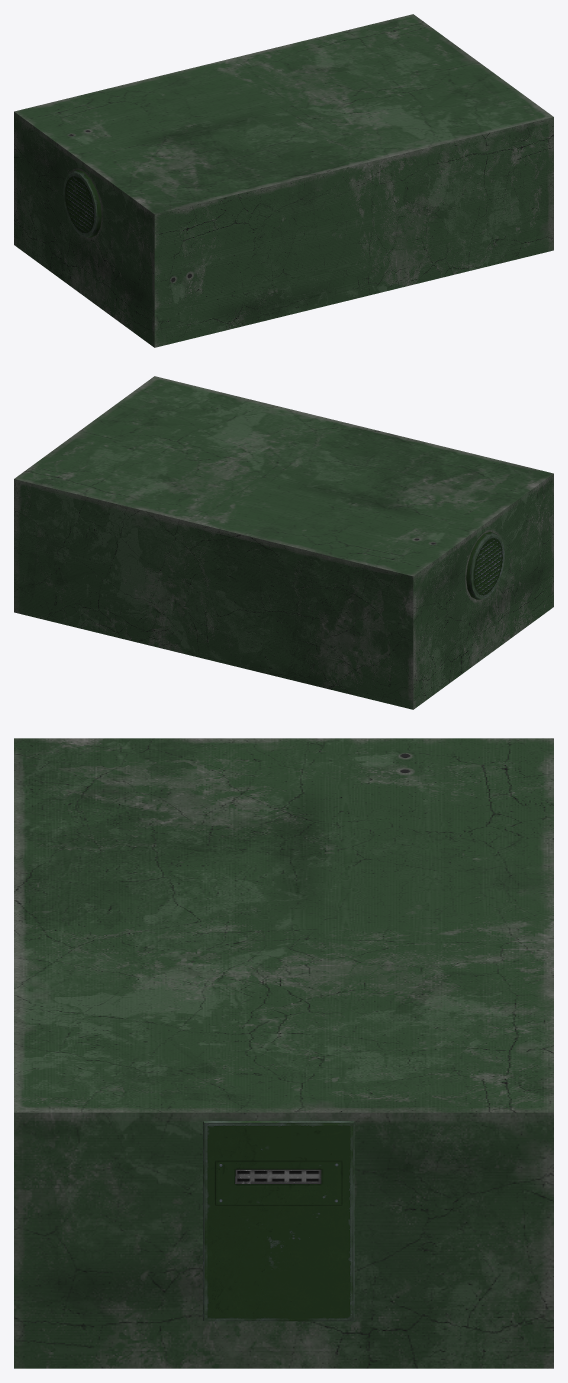
Rendered from MB_Ventilation_Shaft.fbx.
The picture shows the model from 3 angles, top to bottom: view 1: azimuth 30°, elevation 25°; view 2: azimuth 150°, elevation 25°; view 3: azimuth 270°, elevation 25°; orthographic projection. The views are drawn at different scales.
Visible parts, largest first — view 1: MB_Ventilation_Shaft; view 2: MB_Ventilation_Shaft; view 3: MB_Ventilation_Shaft.
Part boxes in pixels (left/top/right/bottom): MB_Ventilation_Shaft: left=14, top=14, right=553, bottom=347; MB_Ventilation_Shaft: left=14, top=376, right=553, bottom=709; MB_Ventilation_Shaft: left=14, top=738, right=553, bottom=1368.
Size of the model in its own units: 457 by 144 by 274.
